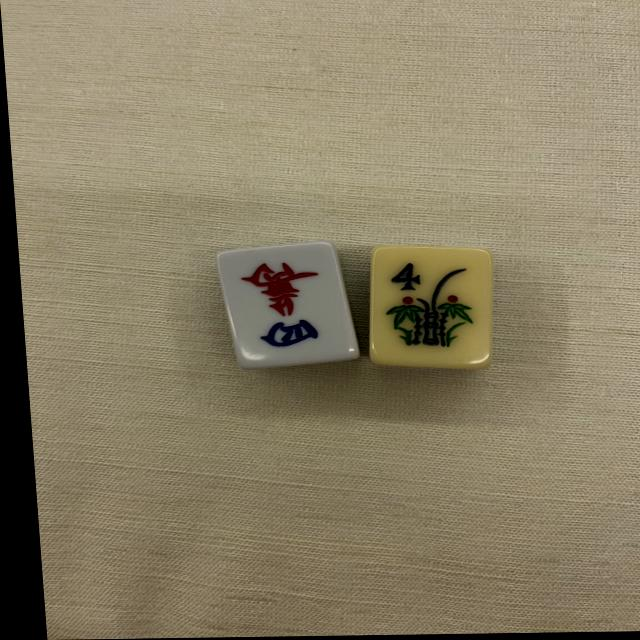4C: (214, 241, 357, 367)
4F: (363, 251, 494, 369)
